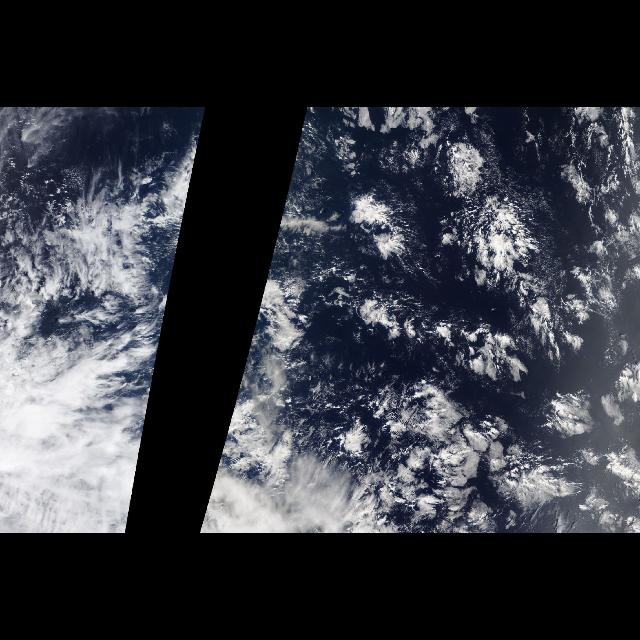Flower: (341, 124, 639, 534)
